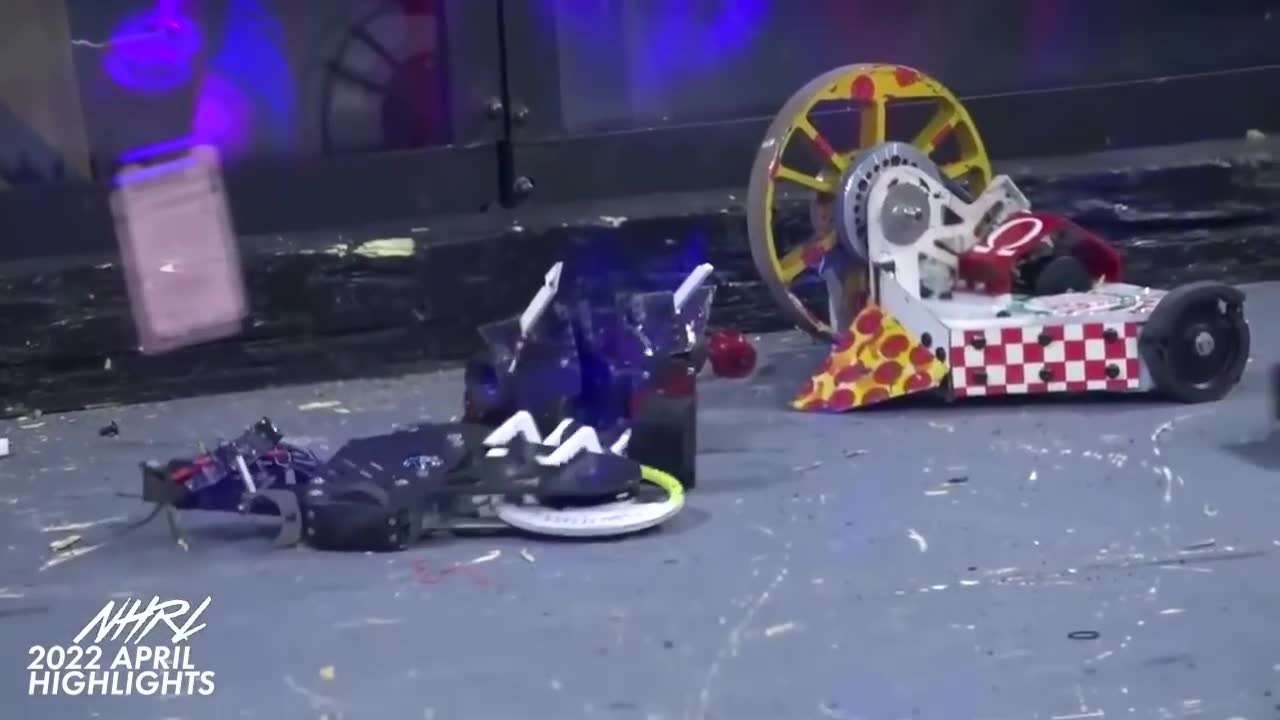combatbot: (739, 63, 1244, 420), (303, 410, 687, 555), (463, 259, 719, 413), (143, 420, 314, 515)
